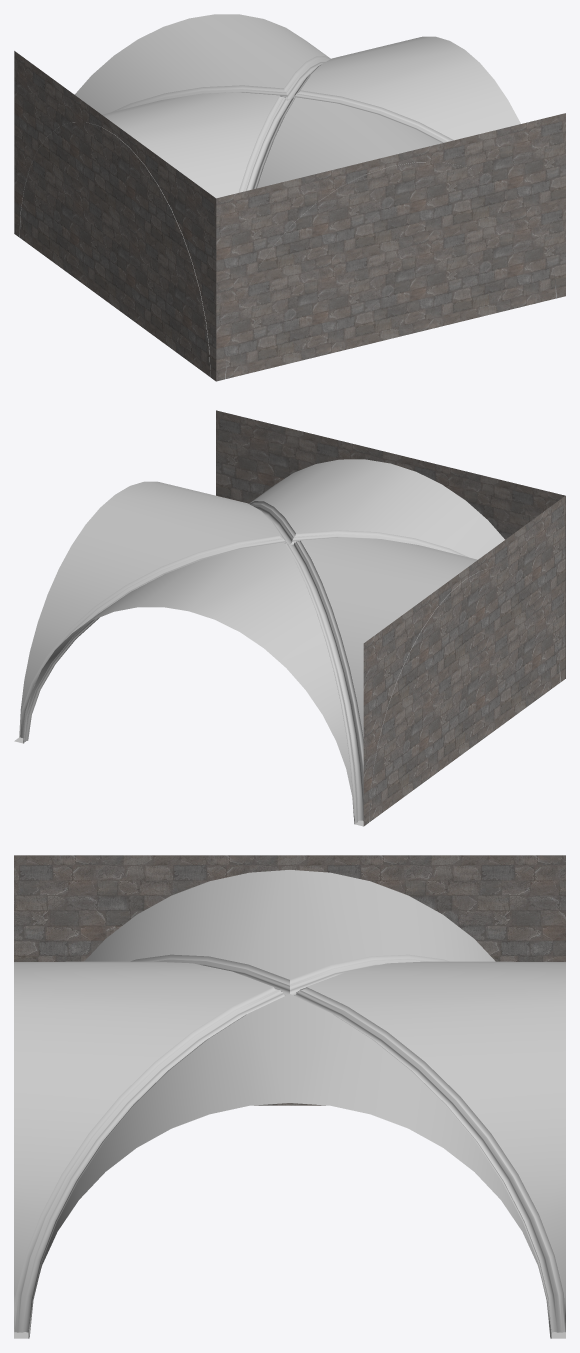
3 renders of one model, top to bottom at view 1: azimuth 30°, elevation 25°; view 2: azimuth 150°, elevation 25°; view 3: azimuth 270°, elevation 25°, orthographic. The views are drawn at different scales.
Visible parts, largest first — view 1: SM_RoomCeiling_2Walls_LOD0; view 2: SM_RoomCeiling_2Walls_LOD0; view 3: SM_RoomCeiling_2Walls_LOD0.
Part boxes in pixels (x1=…): SM_RoomCeiling_2Walls_LOD0: x1=14, y1=14, x2=565, y2=381; SM_RoomCeiling_2Walls_LOD0: x1=14, y1=410, x2=565, y2=826; SM_RoomCeiling_2Walls_LOD0: x1=14, y1=855, x2=565, y2=1338.
Size of the model in its own units: 6 by 3 by 6.
